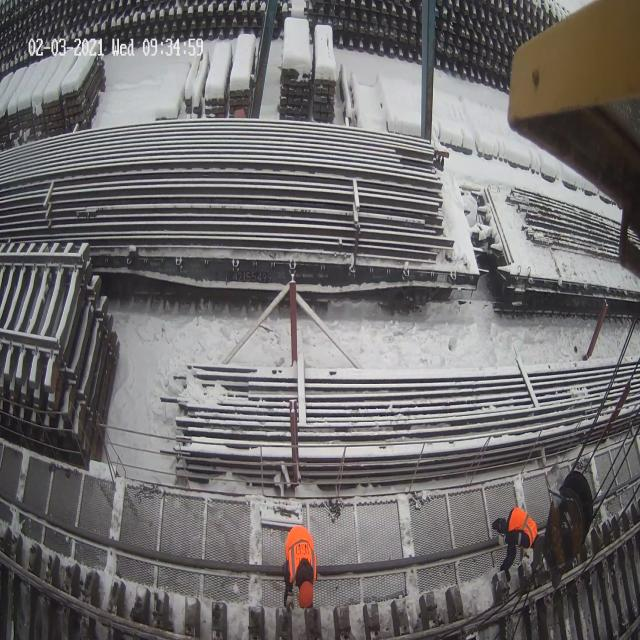Helmet: (292, 568, 319, 609)
Person: (275, 519, 333, 616), (491, 506, 538, 590)
